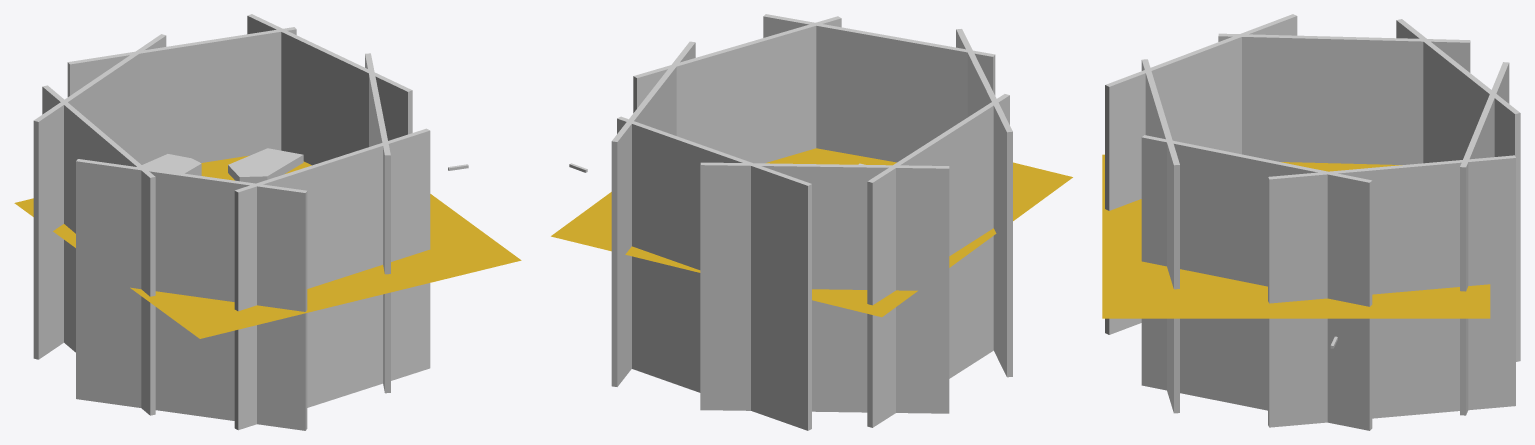
File: Room 1.fbx
The picture shows the model from 3 angles, left to right: view 1: azimuth 30°, elevation 25°; view 2: azimuth 150°, elevation 25°; view 3: azimuth 270°, elevation 25°; orthographic projection. The views are drawn at different scales.
Visible parts, largest first — view 1: Cube.010, Plane.003, Plane.005; view 2: Cube.010, Plane.003; view 3: Cube.010, Plane.003.
Boxes of the visible parts, bbox=[...] form: Cube.010: bbox=[33, 14, 430, 430]; Plane.003: bbox=[14, 155, 521, 338]; Plane.005: bbox=[142, 148, 303, 183]; Cube.010: bbox=[611, 14, 1012, 430]; Plane.003: bbox=[551, 148, 1072, 317]; Cube.010: bbox=[1105, 14, 1520, 430]; Plane.003: bbox=[1102, 154, 1490, 318].
Size of the model in its own units: 159 by 87.64 by 134.
